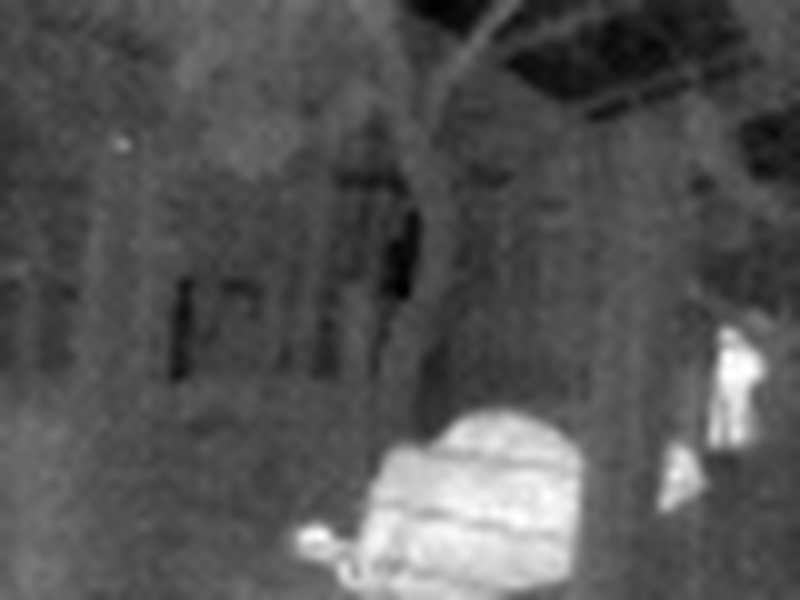elephant: (393, 354, 800, 600)
